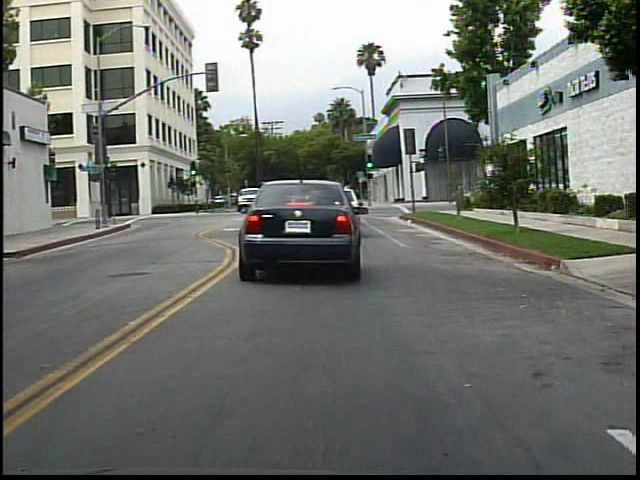person: (339, 177, 364, 220)
